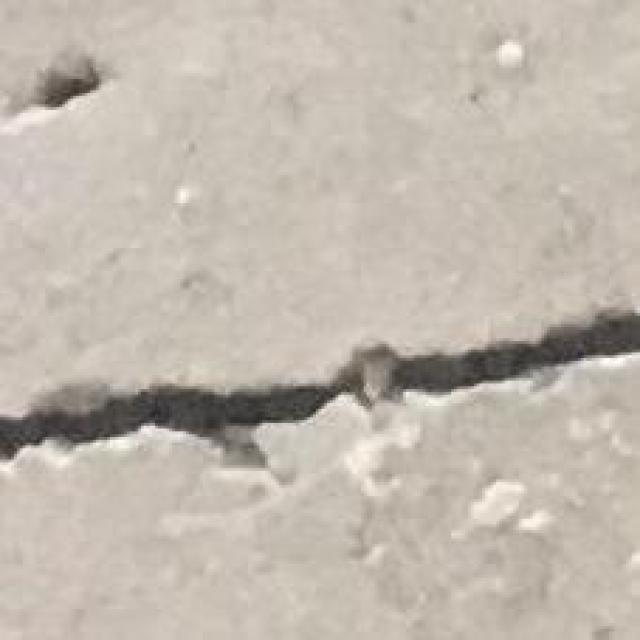horizontal crack: (0, 310, 639, 458)
